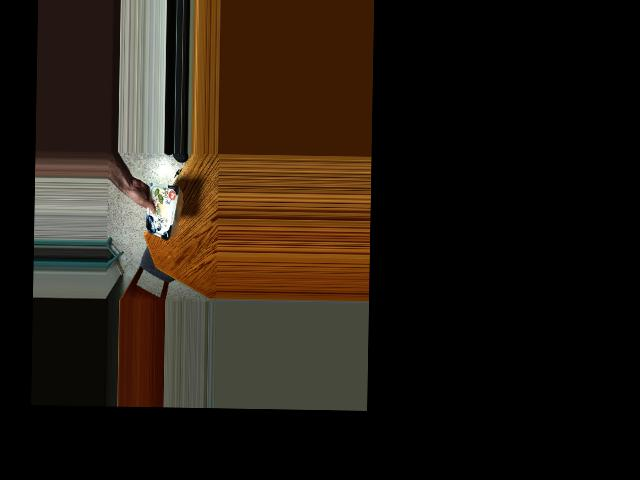cheese: (140, 185, 180, 237)
